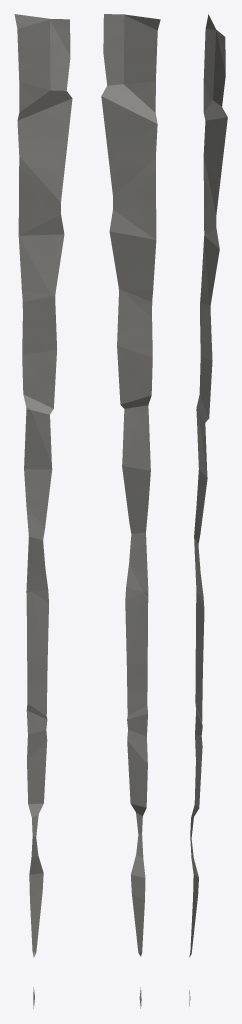
3 views of the same model, side by side, from view 1: azimuth 30°, elevation 25°; view 2: azimuth 210°, elevation 25°; view 3: azimuth 330°, elevation 25° (orthographic). The views are drawn at different scales.
Bounding box in the file's own units: 0.0203 × 0.4927 × 0.0176.
1 material, 1 textured.
